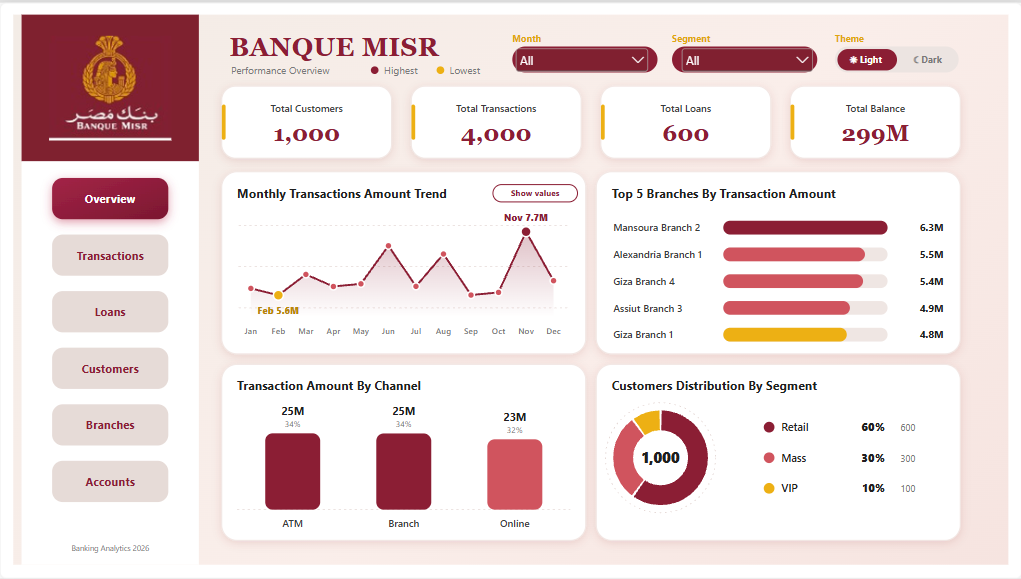

This screenshot's page, from the dashboard's own definition file:
{"tool":"powerbi","page":{"name":"Overview HTML","canvas":[1280,720],"ordinal":1},"visuals":[{"type":"htmlContent443BE3AD55E043BF878BED274D3A6855","fields":{"content":["DAX.HTML Dashboard"]},"box":[0,0,1279.6,720.4],"z":0},{"type":"slicer","fields":{"Values":["DimDate.Month"]},"box":[640.7,51.9,175.9,38.9],"z":1000},{"type":"slicer","fields":{"Values":["Customers Dim.Segment"]},"box":[848.1,51.9,174.1,38.9],"z":2000},{"type":"actionButton","box":[64.8,288.9,150,53.7],"z":3000},{"type":"actionButton","box":[66.7,361.1,150,53.7],"z":4000},{"type":"actionButton","box":[64.8,500,150,53.7],"z":5000},{"type":"actionButton","box":[64.8,427.8,150,53.7],"z":6000},{"type":"actionButton","box":[66.7,568.5,150,53.7],"z":7000},{"type":"actionButton","box":[25.9,14.8,229.4,178.4],"z":8000}]}

Visuals, with their boxes in screenshot pixels (x1, y1, x2, y2), scaled from the page's 1280x720 canvas onto the 1021x579 screenshot:
htmlContent443BE3AD55E043BF878BED274D3A6855 - DAX.HTML Dashboard: [x1=0, y1=0, x2=1020, y2=578]
slicer - DimDate.Month: [x1=511, y1=42, x2=651, y2=73]
slicer - Customers Dim.Segment: [x1=676, y1=42, x2=815, y2=73]
actionButton: [x1=52, y1=232, x2=171, y2=276]
actionButton: [x1=53, y1=290, x2=173, y2=334]
actionButton: [x1=52, y1=402, x2=171, y2=445]
actionButton: [x1=52, y1=344, x2=171, y2=387]
actionButton: [x1=53, y1=457, x2=173, y2=500]
actionButton: [x1=21, y1=12, x2=204, y2=155]
